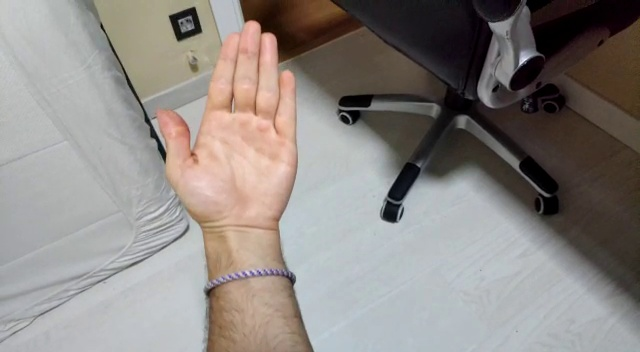Palm: (152, 17, 301, 247)
